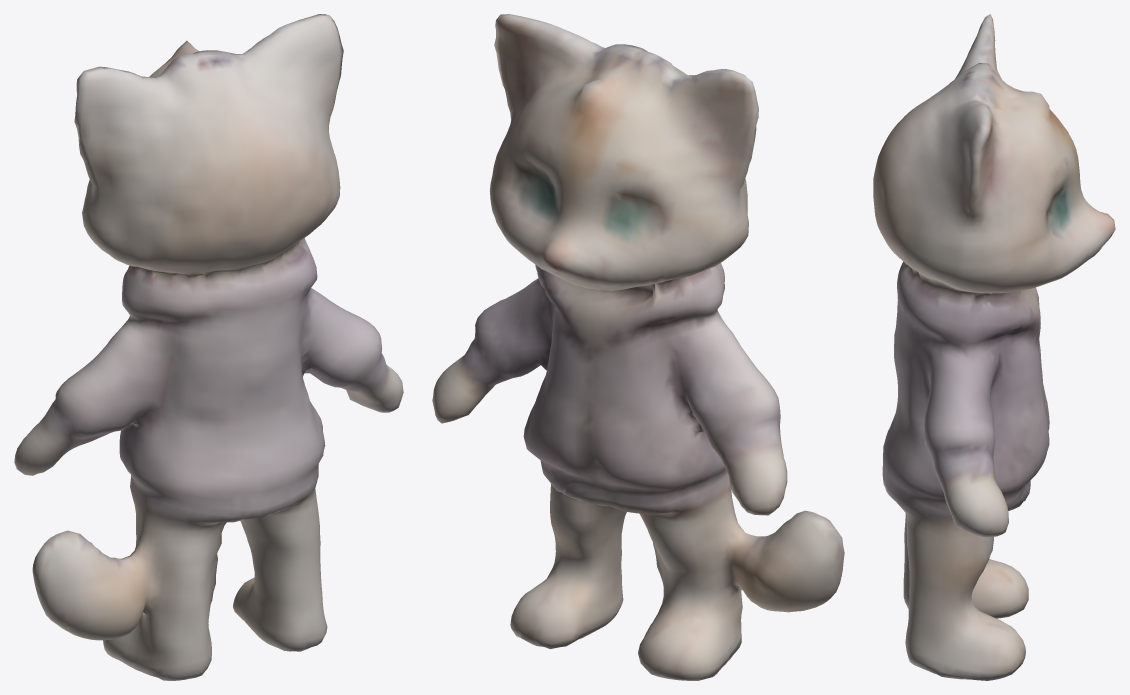
The model's file is milo-grid128-quad-study.glb.
The picture shows the model from 3 angles, left to right: view 1: azimuth 30°, elevation 25°; view 2: azimuth 150°, elevation 25°; view 3: azimuth 270°, elevation 25°; orthographic projection. The views are drawn at different scales.
Parts seen in each view (by area): view 1: MILO_AUTOQUAD_UNAPPROVED; view 2: MILO_AUTOQUAD_UNAPPROVED; view 3: MILO_AUTOQUAD_UNAPPROVED.
Part boxes in pixels (x1,y1,x2,y2): MILO_AUTOQUAD_UNAPPROVED: [14, 14, 403, 680]; MILO_AUTOQUAD_UNAPPROVED: [432, 14, 844, 680]; MILO_AUTOQUAD_UNAPPROVED: [873, 14, 1115, 680].
Bounding box in the file's own units: 1.33 × 1.99 × 0.7697.
